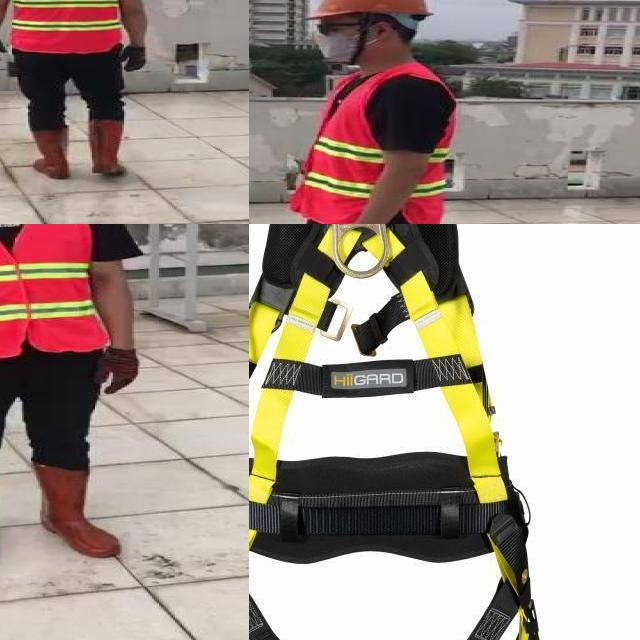Harness: (249, 224, 540, 640)
boots: (34, 462, 124, 557), (24, 126, 74, 178), (85, 117, 127, 178)
face_mask: (310, 19, 376, 63)
glasses: (310, 16, 355, 38)
hand_glove: (97, 349, 139, 394), (121, 45, 147, 73)
head_helmet: (303, 0, 433, 21)
person: (0, 224, 152, 582), (271, 0, 470, 224), (0, 0, 155, 186)
vest: (294, 66, 454, 224), (0, 224, 109, 356), (3, 0, 124, 54)
